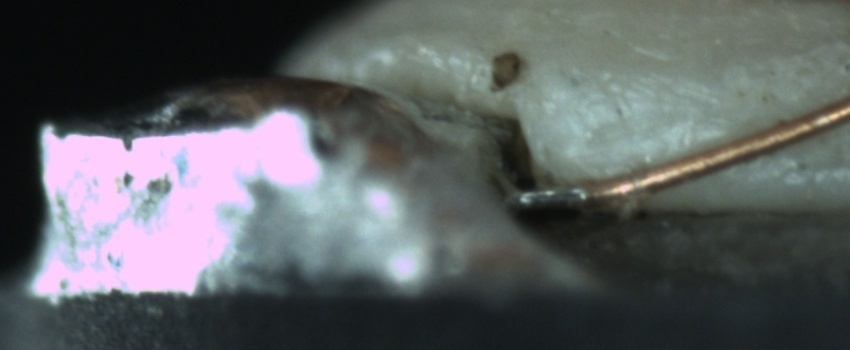TS: (504, 183, 589, 213)
